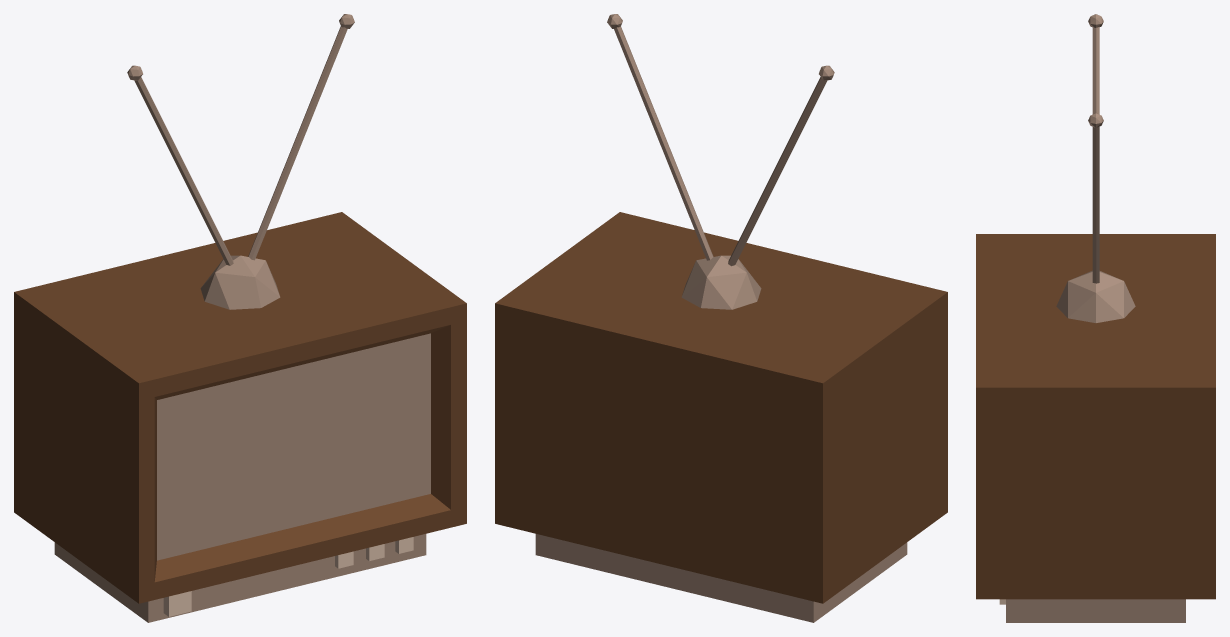
File: TV_broken.fbx
3 renders of one model, left to right at view 1: azimuth 30°, elevation 25°; view 2: azimuth 150°, elevation 25°; view 3: azimuth 270°, elevation 25°, orthographic. The views are drawn at different scales.
Visible parts, largest first — view 1: TV_Part_7, TV_Part_2, TV_Part_8, TV_Part_5, TV_Part_1, TV_Part_3, TV_Part_11, TV_Part_6, TV_Part_9, TV_Part_4, TV_Part_13; view 2: TV_Part_1, TV_Part_8, TV_Part_12, TV_Part_11, TV_Part_7, TV_Part_6, TV_Part_10, TV_Part_3, TV_Part_9, TV_Part_4, TV_Part_13; view 3: TV_Part_4, TV_Part_8, TV_Part_2, TV_Part_10, TV_Part_3, TV_Part_11, TV_Part_1, TV_Part_7, TV_Part_13.
Part boxes in pixels (x1,y1,x2,y2): TV_Part_7: [75, 340, 276, 603]; TV_Part_2: [275, 337, 466, 571]; TV_Part_8: [92, 65, 344, 400]; TV_Part_5: [126, 413, 369, 622]; TV_Part_1: [14, 273, 116, 490]; TV_Part_3: [280, 260, 466, 343]; TV_Part_11: [213, 212, 379, 268]; TV_Part_6: [14, 462, 81, 538]; TV_Part_9: [50, 526, 127, 607]; TV_Part_4: [365, 239, 438, 282]; TV_Part_13: [320, 14, 354, 84]; TV_Part_1: [699, 321, 896, 552]; TV_Part_8: [624, 65, 871, 437]; TV_Part_12: [565, 396, 711, 584]; TV_Part_11: [495, 270, 642, 426]; TV_Part_7: [823, 261, 947, 541]; TV_Part_6: [676, 471, 890, 604]; TV_Part_10: [495, 410, 598, 570]; TV_Part_3: [565, 212, 738, 431]; TV_Part_9: [656, 518, 906, 622]; TV_Part_4: [495, 232, 592, 431]; TV_Part_13: [607, 14, 639, 91]; TV_Part_4: [1028, 372, 1215, 527]; TV_Part_8: [976, 14, 1215, 338]; TV_Part_2: [976, 420, 1099, 622]; TV_Part_10: [1084, 490, 1215, 622]; TV_Part_3: [976, 330, 1132, 463]; TV_Part_11: [1109, 327, 1215, 436]; TV_Part_1: [1071, 234, 1215, 270]; TV_Part_7: [976, 234, 1074, 292]; TV_Part_13: [1088, 113, 1103, 171].
Bounding box in the file's own units: 45.8 × 68.69 × 30.2.
1 material, 1 textured.
